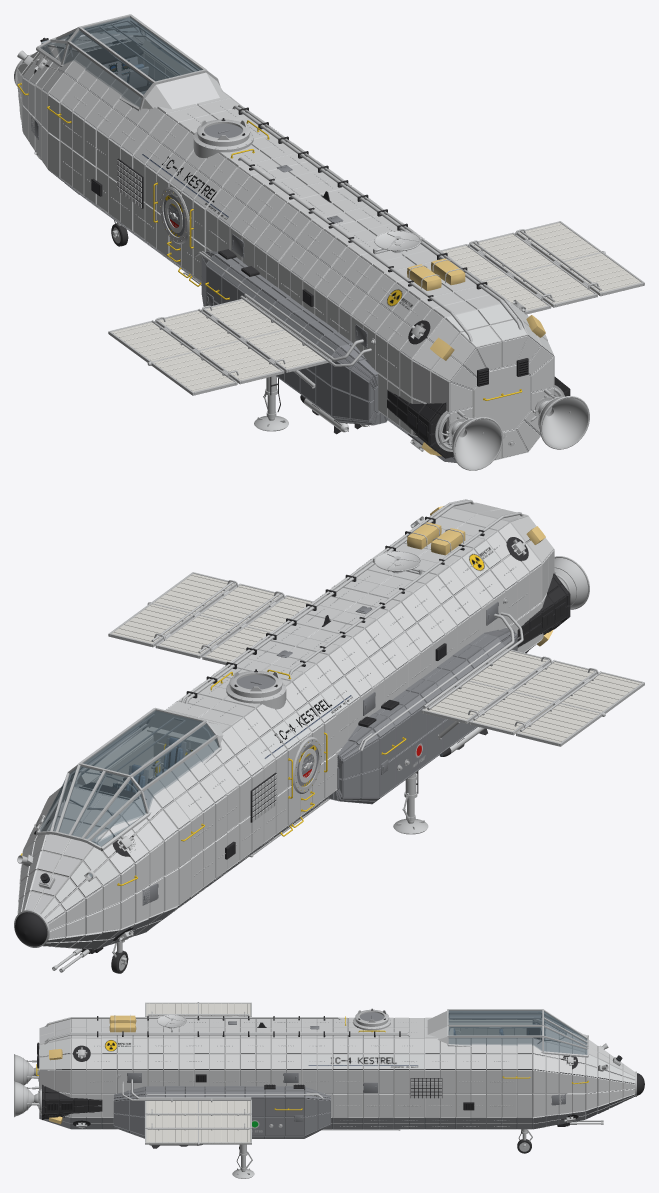
The model's file is kestrel.glb.
3 renders of one model, top to bottom at view 1: azimuth 30°, elevation 25°; view 2: azimuth 150°, elevation 25°; view 3: azimuth 270°, elevation 25°, orthographic. The views are drawn at different scales.
Visible parts, largest first — view 1: EXT_HULL_Fuselage, EXT_HULL_Sponson_L, EXT_CANOPY_Top, EXT_RADIATORS_Panel3_L, EXT_RADIATORS_Panel2_L, EXT_RADIATORS_Panel3_R, EXT_RADIATORS_Panel2_R, EXT_RADIATORS_Panel1_L, EXT_CANOPY_Side_L, EXT_CANOPY_Frame, EXT_ENGINES_Bell_R, EXT_ENGINES_Bell_L (+24 smaller); view 2: EXT_HULL_Fuselage, EXT_HULL_Sponson_L, EXT_CANOPY_Frame, EXT_CANOPY_Top, EXT_RADIATORS_Panel2_L, EXT_RADIATORS_Panel3_L, EXT_RADIATORS_Panel3_R, EXT_RADIATORS_Panel2_R, EXT_RADIATORS_Panel1_L, EXT_CANOPY_Windscreen_L, EXT_CANOPY_Side_L, INT_R01_Walls (+24 smaller); view 3: EXT_HULL_Fuselage, EXT_HULL_Sponson_R, EXT_CANOPY_Frame, EXT_CANOPY_Side_R, EXT_RADIATORS_Panel3_R, EXT_CANOPY_Top, EXT_RADIATORS_Panel2_R, EXT_RADIATORS_Panel1_R, EXT_RADIATORS_Panel3_L, EXT_ENGINES_Nacelle_R, EXT_GREEBLES_SpineConduitB, INT_R01_Walls (+17 smaller).
Boxes of the visible parts, x1,y1,x2,y2 form: EXT_HULL_Fuselage: (17, 33, 554, 462); EXT_HULL_Sponson_L: (201, 251, 388, 425); EXT_CANOPY_Top: (83, 17, 201, 81); EXT_RADIATORS_Panel3_L: (110, 322, 233, 392); EXT_RADIATORS_Panel2_L: (157, 311, 280, 382); EXT_RADIATORS_Panel3_R: (516, 222, 641, 294); EXT_RADIATORS_Panel2_R: (473, 234, 593, 306); EXT_RADIATORS_Panel1_L: (203, 300, 324, 368); EXT_CANOPY_Side_L: (63, 30, 151, 106); EXT_CANOPY_Frame: (37, 14, 220, 110); EXT_ENGINES_Bell_R: (537, 396, 589, 449); EXT_ENGINES_Bell_L: (450, 417, 502, 470); EXT_HULL_Fuselage: (17, 502, 554, 949); EXT_HULL_Sponson_L: (328, 627, 517, 804); EXT_CANOPY_Frame: (37, 707, 221, 850); EXT_CANOPY_Top: (83, 710, 201, 774); EXT_RADIATORS_Panel2_L: (473, 662, 594, 733); EXT_RADIATORS_Panel3_L: (519, 673, 641, 742); EXT_RADIATORS_Panel3_R: (112, 573, 236, 643); EXT_RADIATORS_Panel2_R: (159, 585, 280, 654); EXT_RADIATORS_Panel1_L: (425, 651, 547, 719); EXT_CANOPY_Windscreen_L: (72, 772, 146, 846); EXT_CANOPY_Side_L: (133, 724, 218, 809); INT_R01_Walls: (77, 727, 200, 799); EXT_HULL_Fuselage: (39, 1017, 635, 1129); EXT_HULL_Sponson_R: (113, 1086, 330, 1138); EXT_CANOPY_Frame: (447, 1009, 588, 1056); EXT_CANOPY_Side_R: (448, 1027, 542, 1050); EXT_RADIATORS_Panel3_R: (146, 1129, 250, 1143); EXT_CANOPY_Top: (448, 1010, 542, 1024); EXT_RADIATORS_Panel2_R: (146, 1115, 250, 1128); EXT_RADIATORS_Panel1_R: (146, 1101, 250, 1113); EXT_RADIATORS_Panel3_L: (146, 1003, 250, 1015); EXT_ENGINES_Nacelle_R: (42, 1084, 102, 1119); EXT_GREEBLES_SpineConduitB: (44, 1033, 410, 1044); INT_R01_Walls: (450, 1020, 541, 1039).
Bounding box in the file's own units: 12.64 × 5.64 × 23.8.
16 materials, 2 textured.
